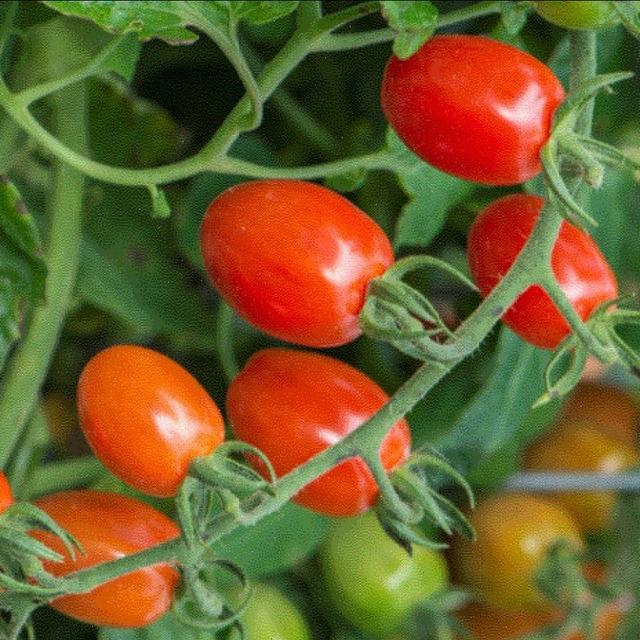Healthy Fruit: (73, 9, 365, 379)
